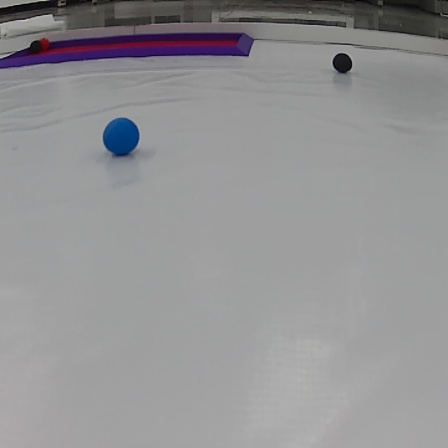black: (334, 55, 352, 72), (32, 43, 41, 52)
blue: (108, 116, 138, 155)
red: (39, 39, 51, 48)
red_aim: (2, 32, 255, 65)
